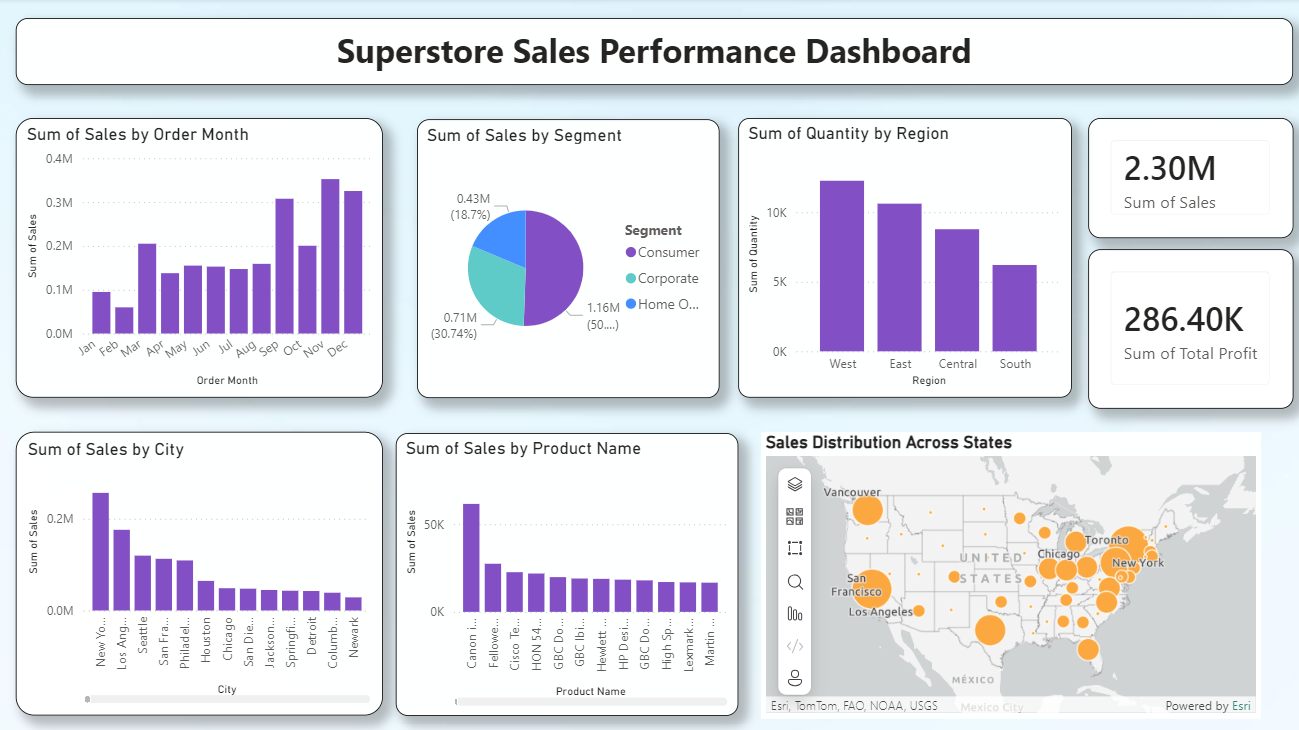

What the dashboard file says about the page in this screenshot:
{"tool":"powerbi","page":{"name":"Page 1","canvas":[1280,720],"ordinal":0},"visuals":[{"type":"columnChart","fields":{"Category":["SuperStore Data.Order Month"],"Y":["Sum(SuperStore Data.Sales)"]},"box":[18.2,117.8,359,273.4],"z":0},{"type":"columnChart","fields":{"Category":["SuperStore Data.City"],"Y":["Sum(SuperStore Data.Sales)"]},"box":[18.2,424.9,359,277.7],"z":1000},{"type":"columnChart","fields":{"Category":["SuperStore Data.Product Name"],"Y":["Sum(SuperStore Data.Sales)"]},"box":[389.7,425.4,334.8,277.2],"z":2000},{"type":"cardVisual","fields":{"Data":["Sum(SuperStore Data.Sales)"]},"box":[1067.1,117.8,200.5,117.8],"z":3000},{"type":"pieChart","fields":{"Category":["SuperStore Data.Segment"],"Y":["Sum(SuperStore Data.Sales)"]},"box":[410.3,118,296.4,273.1],"z":4000},{"type":"clusteredColumnChart","fields":{"Category":["SuperStore Data.Region"],"Y":["Sum(SuperStore Data.Quantity)"]},"box":[725,117.8,326.7,273.4],"z":5000},{"type":"esriVisual","title":"Sales Distribution Across States","fields":{"Location":["SuperStore Data.State"],"Size":["Sum(SuperStore Data.Sales)"]},"box":[747.4,424.9,489.4,280.5],"z":6000},{"type":"cardVisual","fields":{"Data":["Sum(KPI Dashboard.Total Profit)"]},"box":[1067.1,245.4,200.5,155.7],"z":7000},{"type":"textbox","box":[18.2,19.6,1249.4,65.9],"z":8000}]}

Visuals, with their boxes in screenshot pixels (x1, y1, x2, y2), scaled from the page's 1280x720 canvas onto the 1299x730 screenshot:
columnChart - SuperStore Data.Order Month x Sum(SuperStore Data.Sales): <bbox>18, 119, 383, 397</bbox>
columnChart - SuperStore Data.City x Sum(SuperStore Data.Sales): <bbox>18, 431, 383, 712</bbox>
columnChart - SuperStore Data.Product Name x Sum(SuperStore Data.Sales): <bbox>395, 431, 735, 712</bbox>
cardVisual - Sum(SuperStore Data.Sales): <bbox>1083, 119, 1286, 239</bbox>
pieChart - SuperStore Data.Segment x Sum(SuperStore Data.Sales): <bbox>416, 120, 717, 397</bbox>
clusteredColumnChart - SuperStore Data.Region x Sum(SuperStore Data.Quantity): <bbox>736, 119, 1067, 397</bbox>
"Sales Distribution Across States" esriVisual: <bbox>758, 431, 1255, 715</bbox>
cardVisual - Sum(KPI Dashboard.Total Profit): <bbox>1083, 249, 1286, 407</bbox>
textbox: <bbox>18, 20, 1286, 87</bbox>
